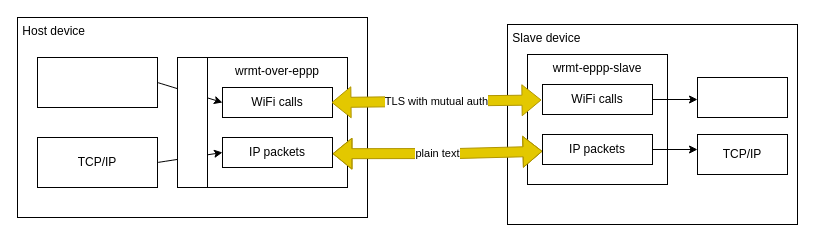
Image size: 815x242. Some labels were removed from this diagram. Here are the shapes that lost their labels. From the top down, the centre of each, then its label:
[97,82]: Application
[742,97]: WiFi library
[192,122]: esp-wifi-remote
